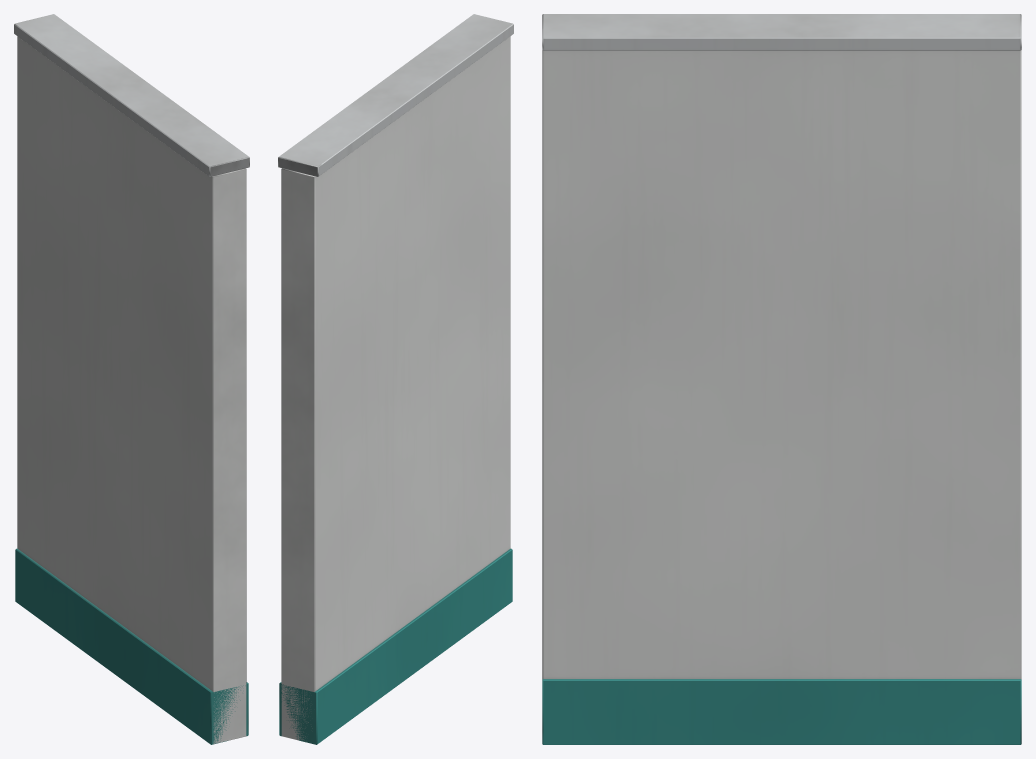
Rendered from HWall_Panel.fbx.
The picture shows the model from 3 angles, left to right: view 1: azimuth 30°, elevation 25°; view 2: azimuth 150°, elevation 25°; view 3: azimuth 270°, elevation 25°; orthographic projection. The views are drawn at different scales.
Parts seen in each view (by area): view 1: HWall_Panel_LOD0; view 2: HWall_Panel_LOD0; view 3: HWall_Panel_LOD0.
Boxes of the visible parts, left/top/right/bottom form: HWall_Panel_LOD0: left=14, top=14, right=249, bottom=744; HWall_Panel_LOD0: left=278, top=14, right=513, bottom=744; HWall_Panel_LOD0: left=542, top=14, right=1021, bottom=744.
Size of what is drawn, in the model's own units: 0.12 by 1.63 by 1.
1 material, 1 textured.
